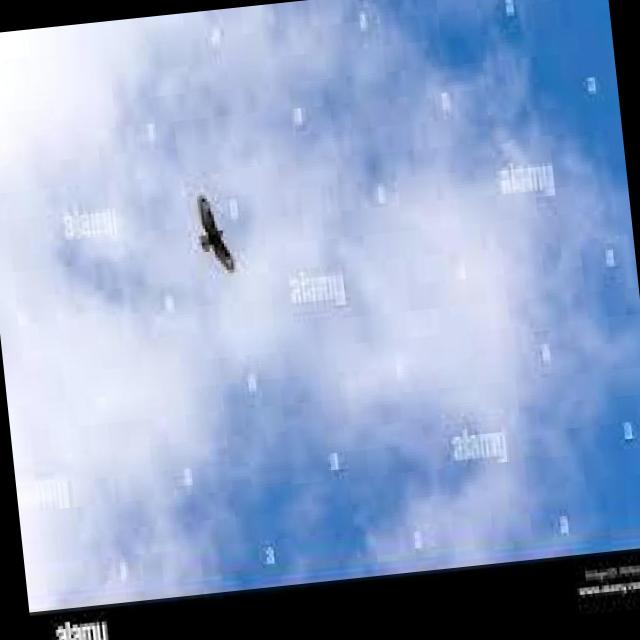bird: (190, 188, 242, 277)
